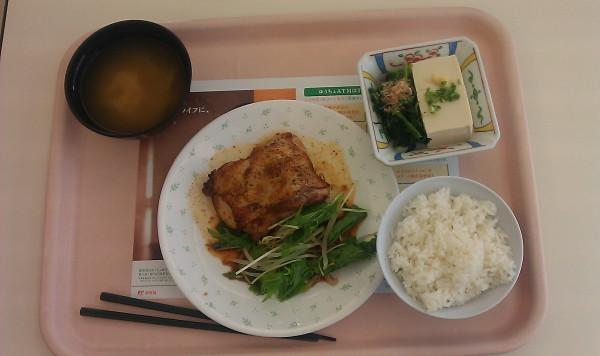plate: (157, 100, 397, 336)
rice: (387, 188, 515, 310)
